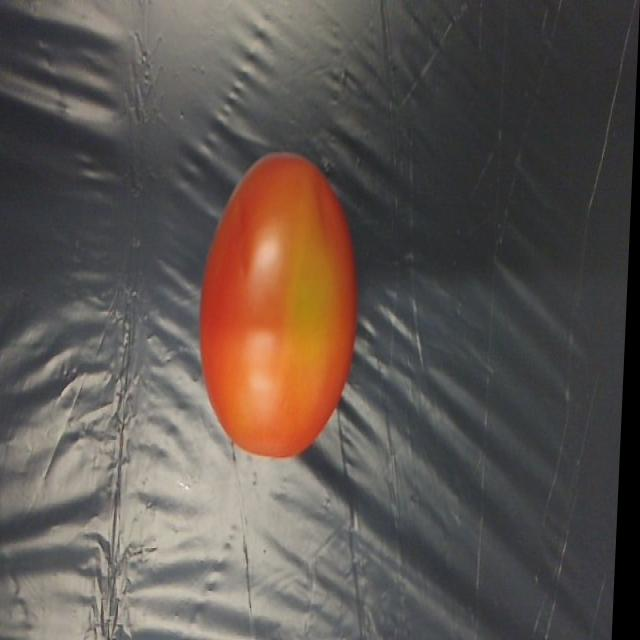sari: (184, 132, 394, 454)
